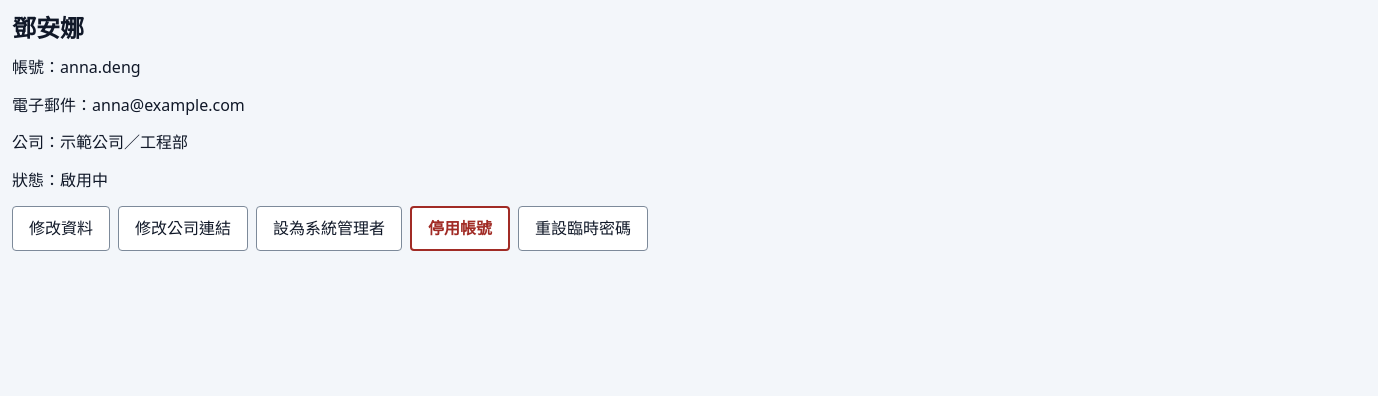
Scenario: UsersPage 帳號詳情 › 重設臨時密碼失敗時顯示錯誤且不送第二次或清除帳號
expect the heading "鄧安娜" is shown: met, box top-left (12, 11), bottom-right (84, 44)
Click the button "重設臨時密碼" at (583, 228), box top-left (518, 206), bottom-right (648, 251)
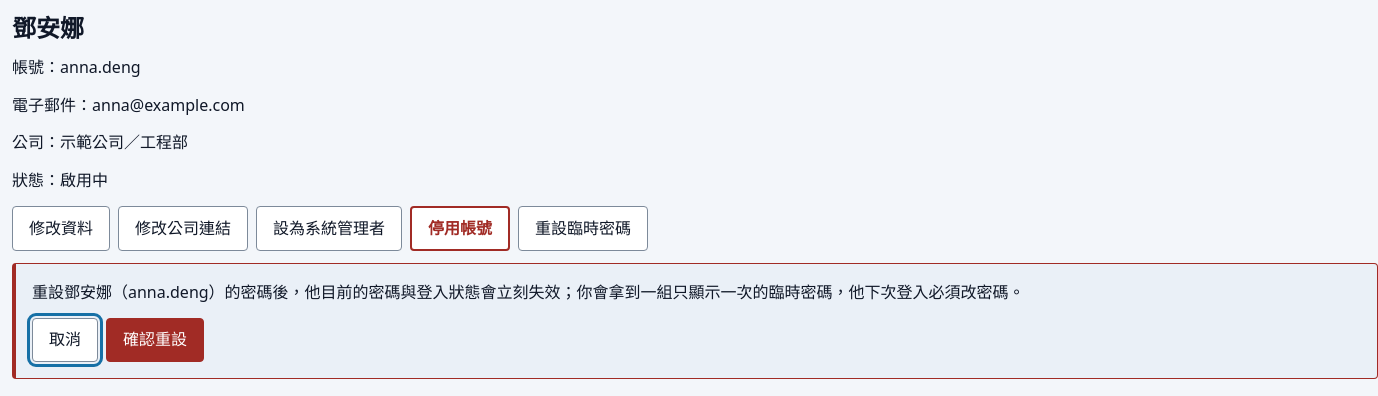
Click the button "確認重設" at (155, 340), box top-left (106, 318), bottom-right (204, 362)
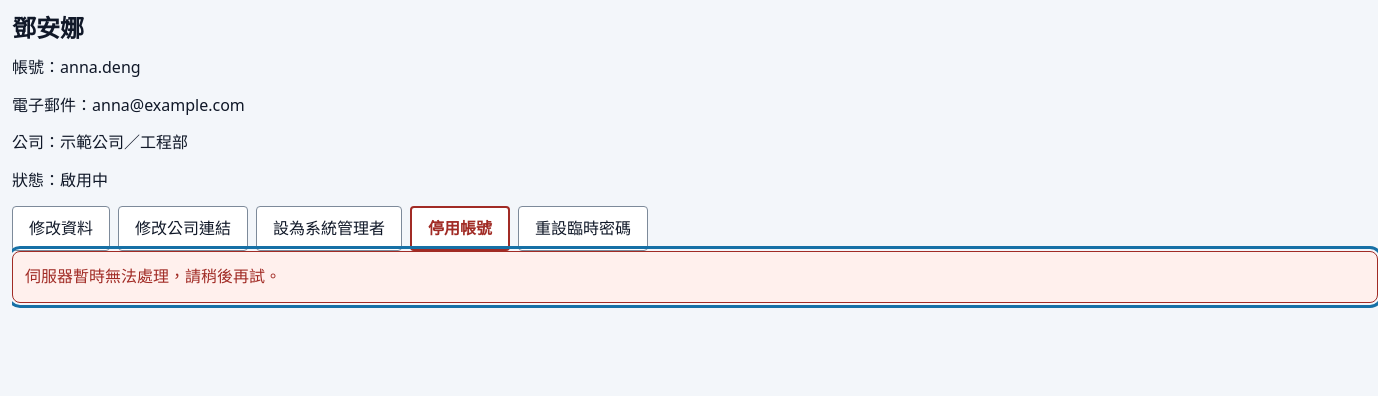
expect the heading "鄧安娜" is shown: met, box top-left (12, 11), bottom-right (84, 44)
expect the message "伺服器暫時無法處理，請稍後再試。" is shown: met, box top-left (12, 251), bottom-right (1377, 303)
